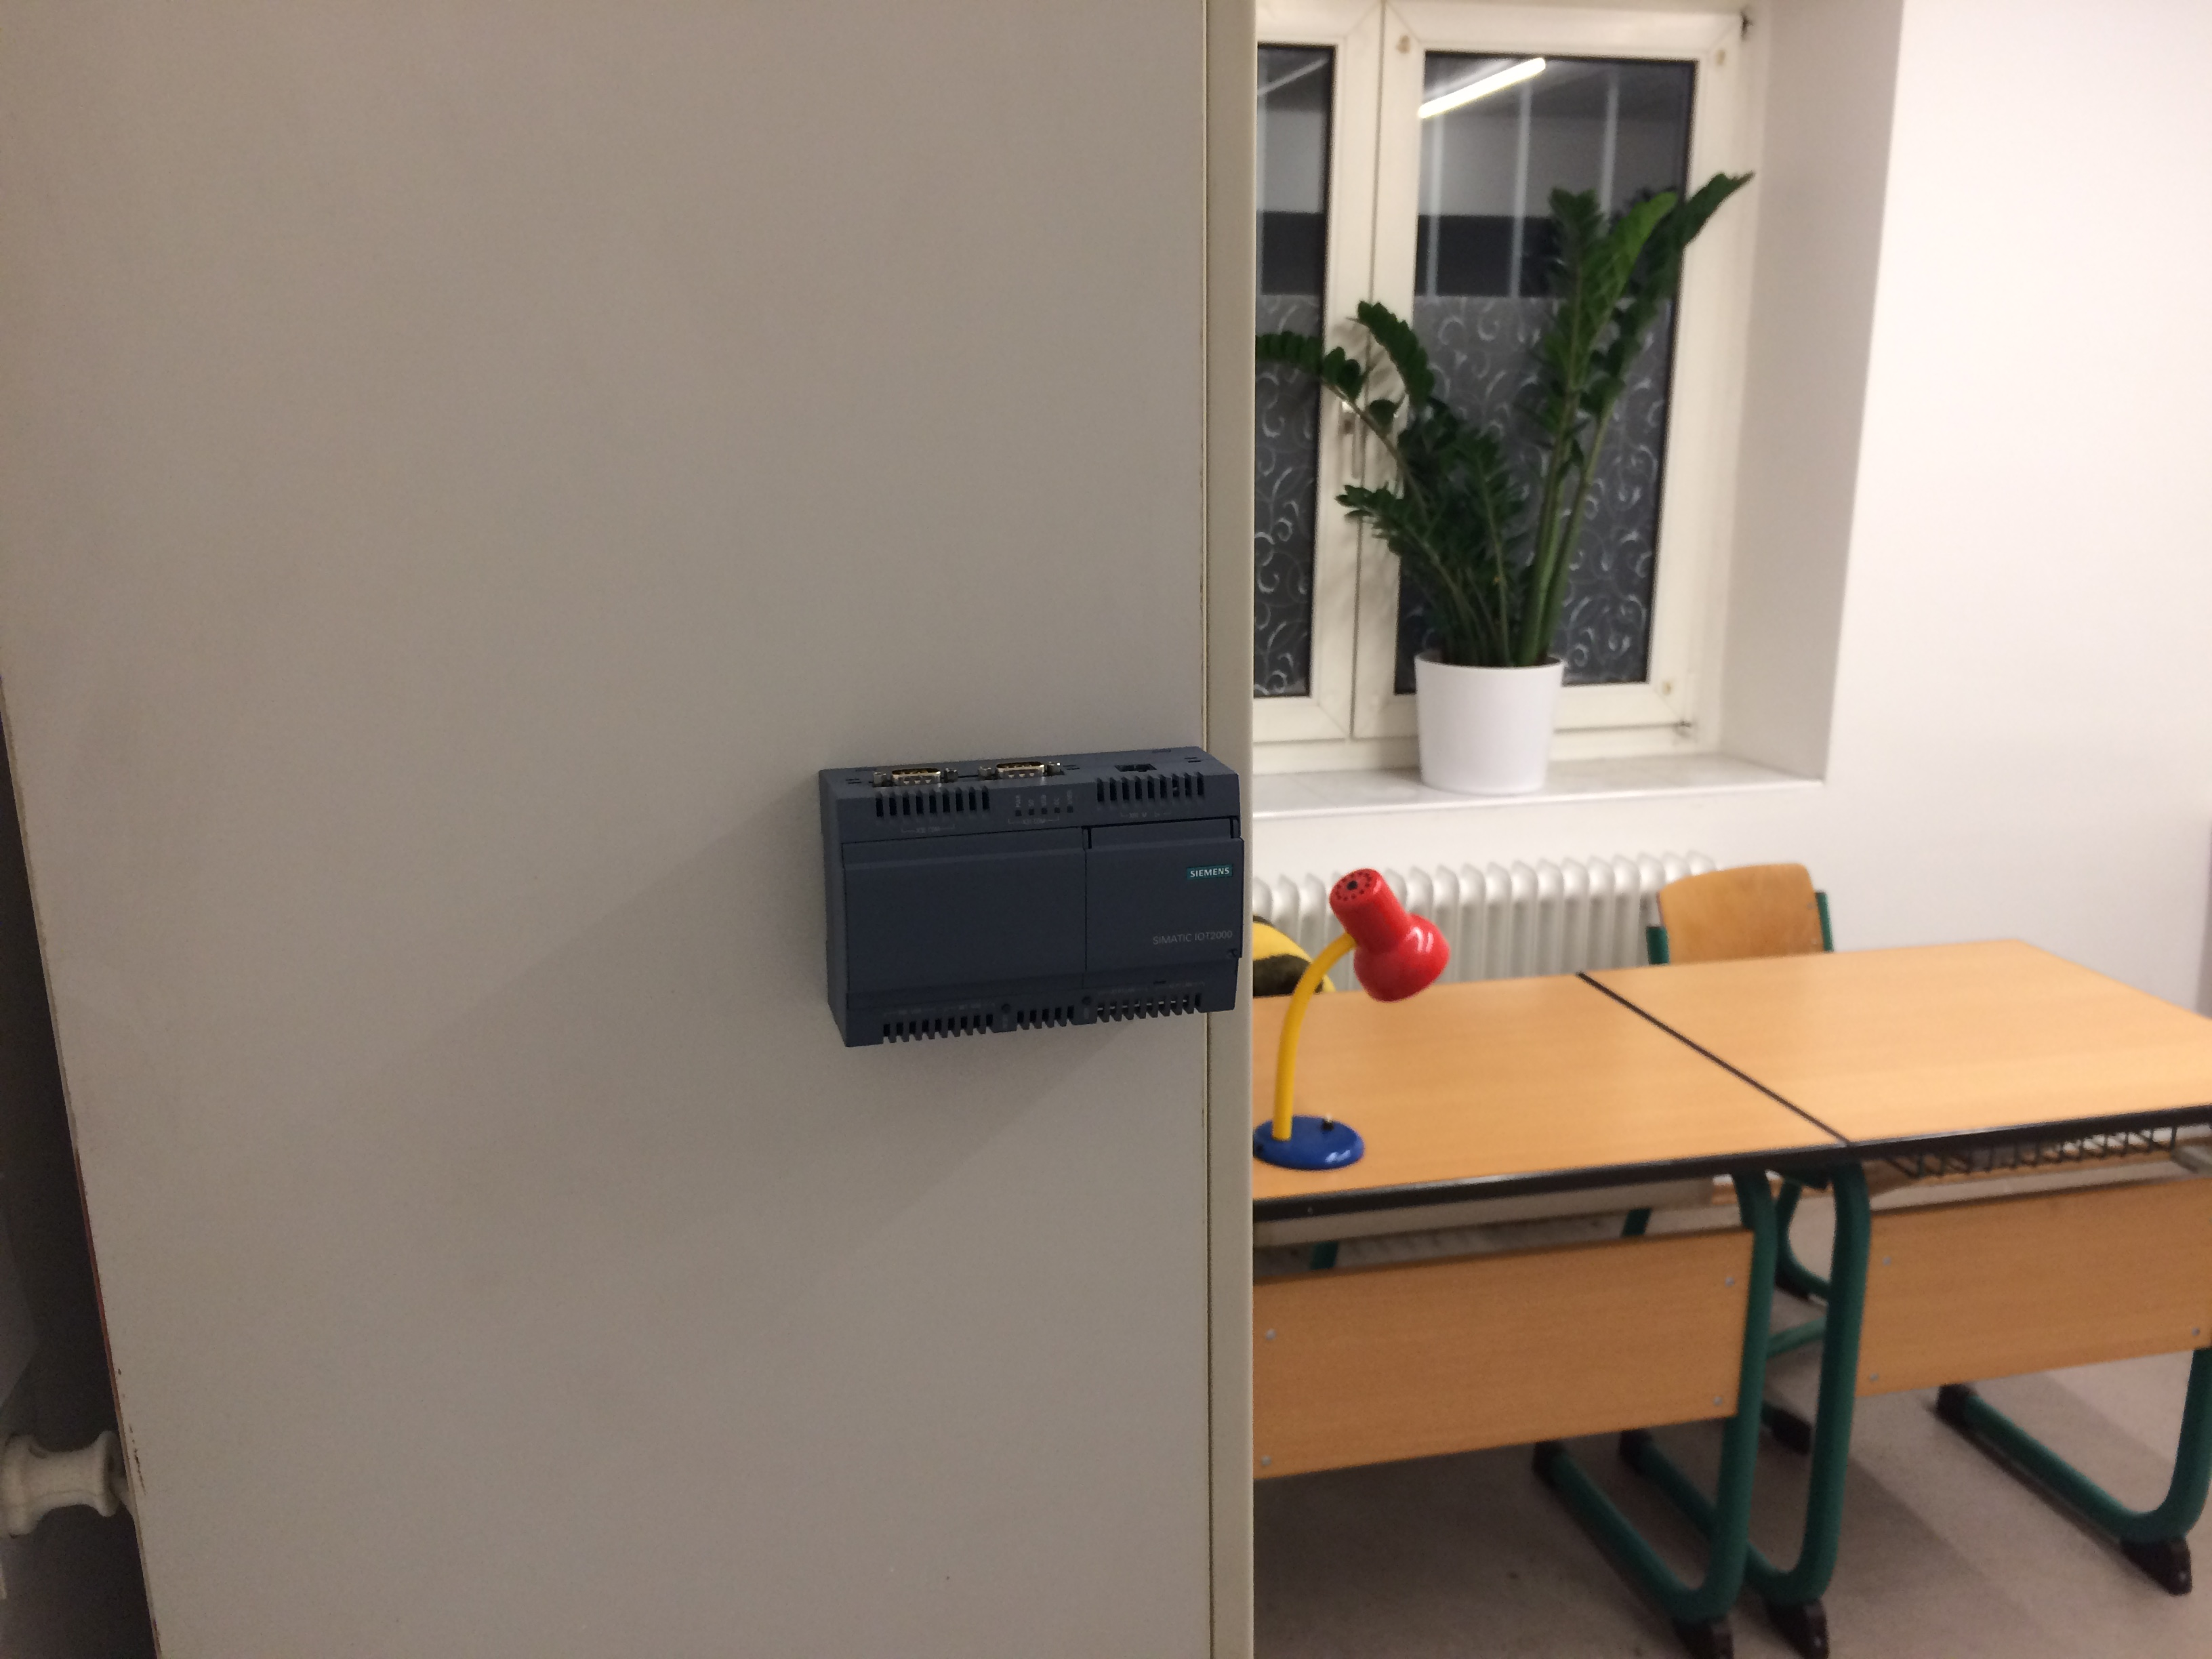iot2000: (815, 742, 1249, 1051)
